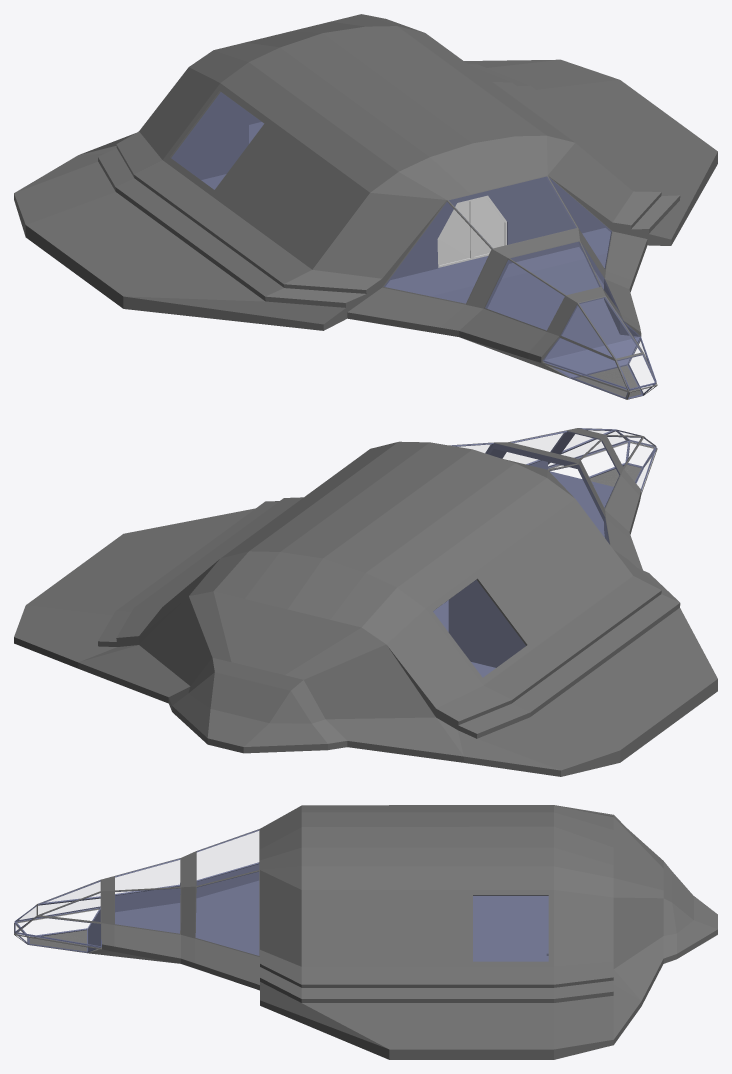
Rendered from Delta_flyer.fbx.
3 views of the same model, one above another, from view 1: azimuth 30°, elevation 25°; view 2: azimuth 150°, elevation 25°; view 3: azimuth 270°, elevation 25° (orthographic). The views are drawn at different scales.
Parts seen in each view (by area): view 1: Ship Outside, Ship Inside, Door Right, Door Left; view 2: Ship Outside, Ship Inside; view 3: Ship Outside, Ship Inside.
Part boxes in pixels (box(x1,y1,x2,y2)): Ship Outside: box(14, 14, 717, 399); Ship Inside: box(171, 92, 656, 399); Door Right: box(437, 199, 472, 267); Door Left: box(472, 195, 506, 259); Ship Outside: box(14, 428, 717, 776); Ship Inside: box(433, 428, 656, 677); Ship Outside: box(14, 805, 717, 1059); Ship Inside: box(14, 829, 548, 961).
Size of the model in its own units: 3130 by 685 by 3809.
